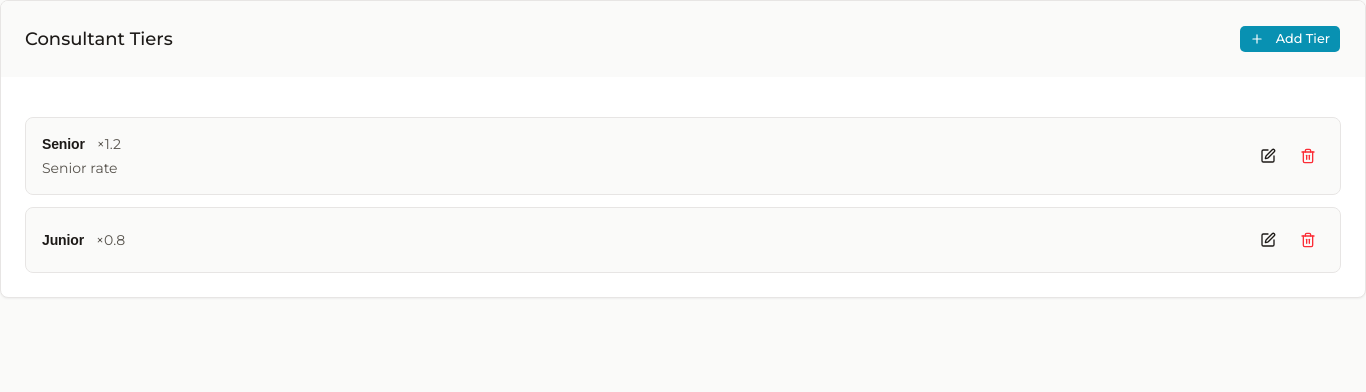
Test: TiersSettingsTab › clicking edit on a tier reveals the inline-edit form
Click the button named "edit senior": (1268, 156) [1252, 140, 1284, 172]
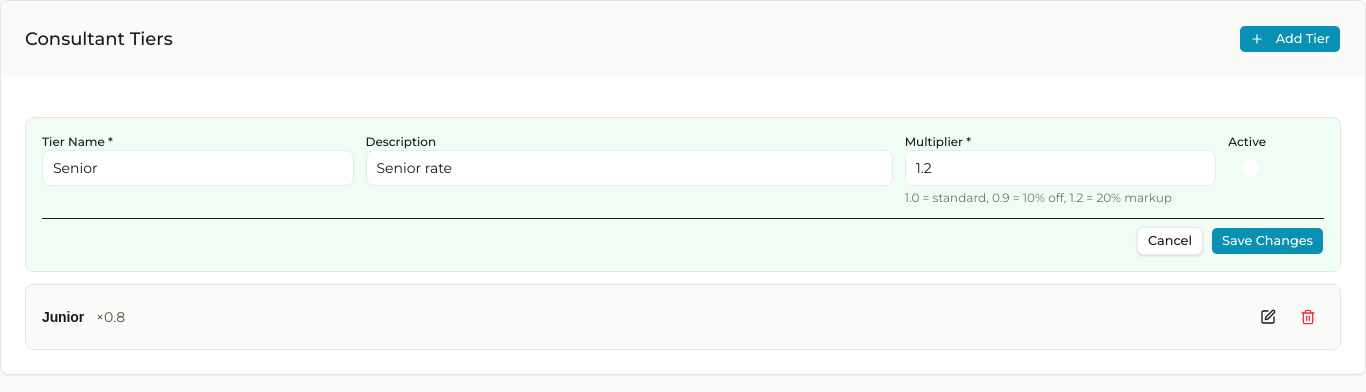
Result: the field labelled "Tier Name *" holds "Senior" at [42, 150, 354, 186]
Result: the button "Save Changes" is shown at [1211, 227, 1324, 255]
